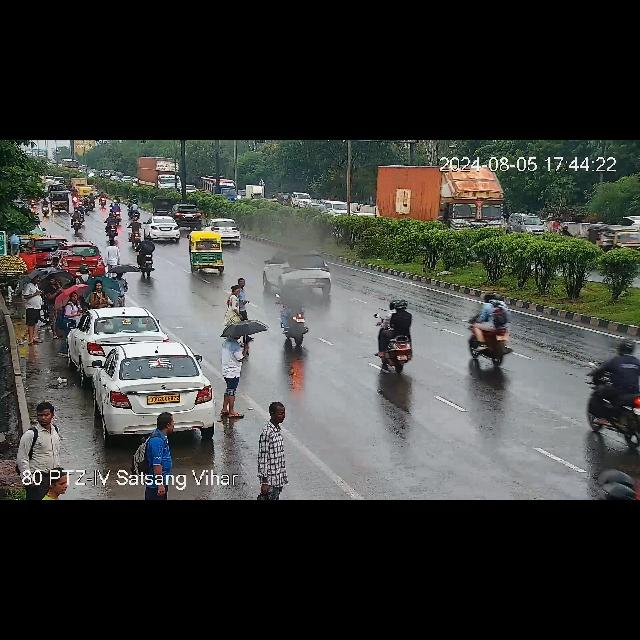bus: (200, 174, 238, 202)
car: (88, 346, 214, 438), (68, 306, 162, 366), (264, 249, 334, 295), (187, 232, 229, 274), (590, 220, 640, 250), (190, 216, 232, 244), (142, 218, 186, 242), (507, 212, 548, 235), (172, 206, 206, 227), (51, 191, 71, 213), (154, 196, 178, 214), (79, 186, 91, 198)
motorcycle: (590, 338, 640, 438), (462, 292, 516, 368), (368, 300, 419, 374), (272, 286, 308, 346), (138, 236, 154, 274), (71, 202, 89, 228), (106, 212, 118, 242), (129, 218, 141, 242), (84, 194, 96, 212), (130, 200, 140, 220), (41, 197, 51, 216), (112, 200, 120, 222), (98, 191, 106, 205), (72, 185, 78, 202)
person: (258, 400, 290, 488), (28, 401, 70, 465), (218, 330, 242, 418), (146, 410, 182, 466), (225, 277, 253, 335), (25, 273, 41, 341), (46, 276, 59, 336), (48, 464, 68, 500), (65, 292, 79, 336), (104, 240, 120, 270), (90, 280, 112, 300), (114, 272, 128, 300)
truck: (376, 164, 506, 222), (140, 156, 180, 190)
